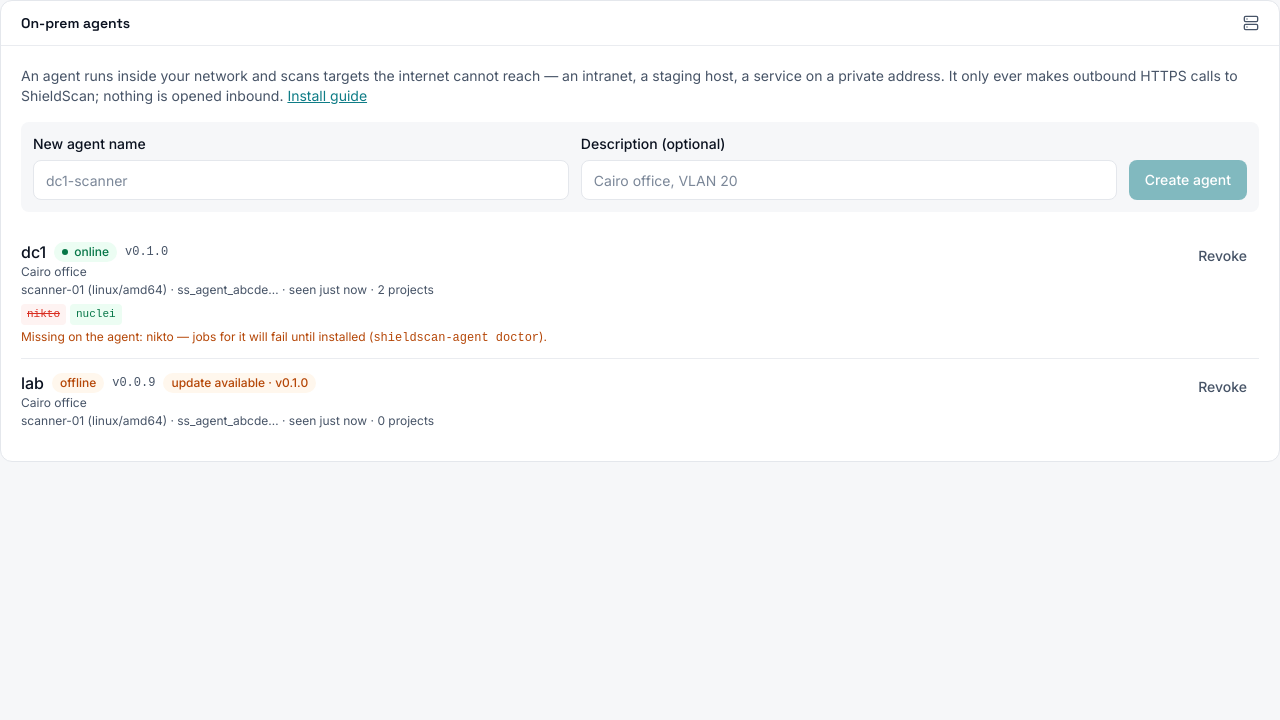
Test case: <Agents /> › plan cap on create renders the plan-limit alert
Expected: the text "dc1" is shown, 21,240 -> 46,264
Step 1. Type "dc2" into the field labelled "New agent name" → (301, 180), box 33,160 -> 569,200
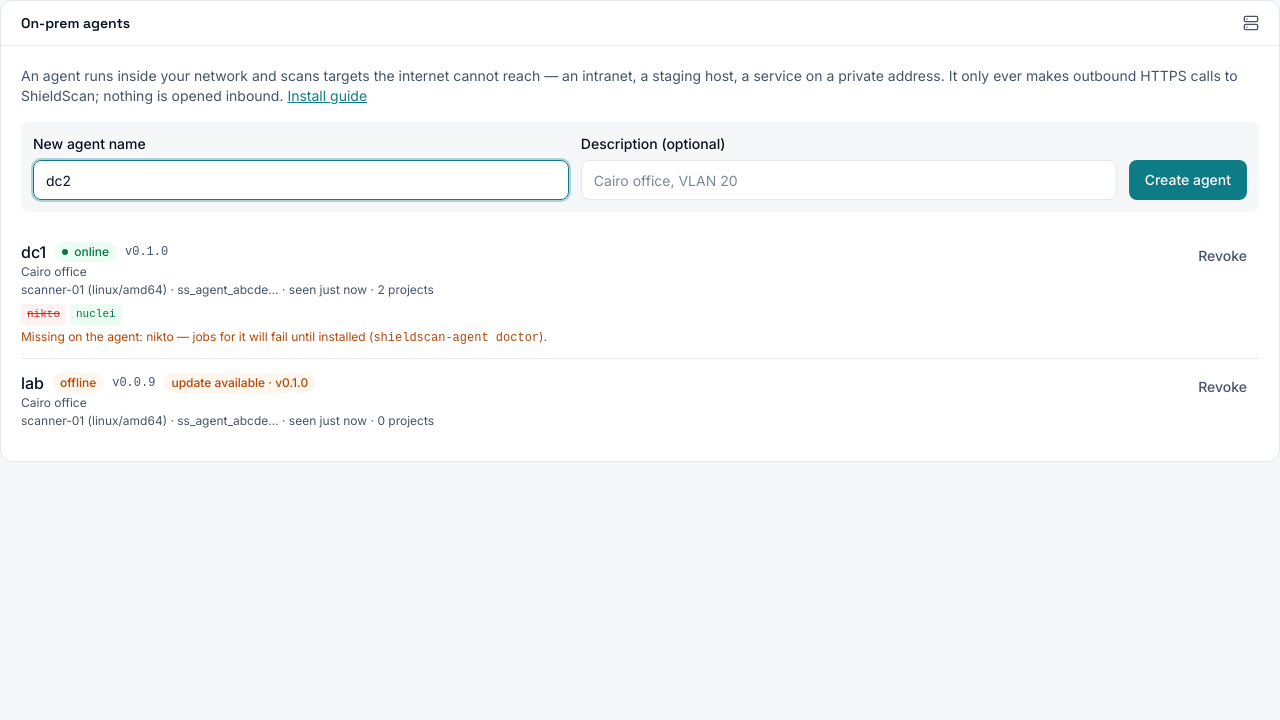
Step 2. Click the button "Create agent" → (1188, 180), box 1129,160 -> 1247,200
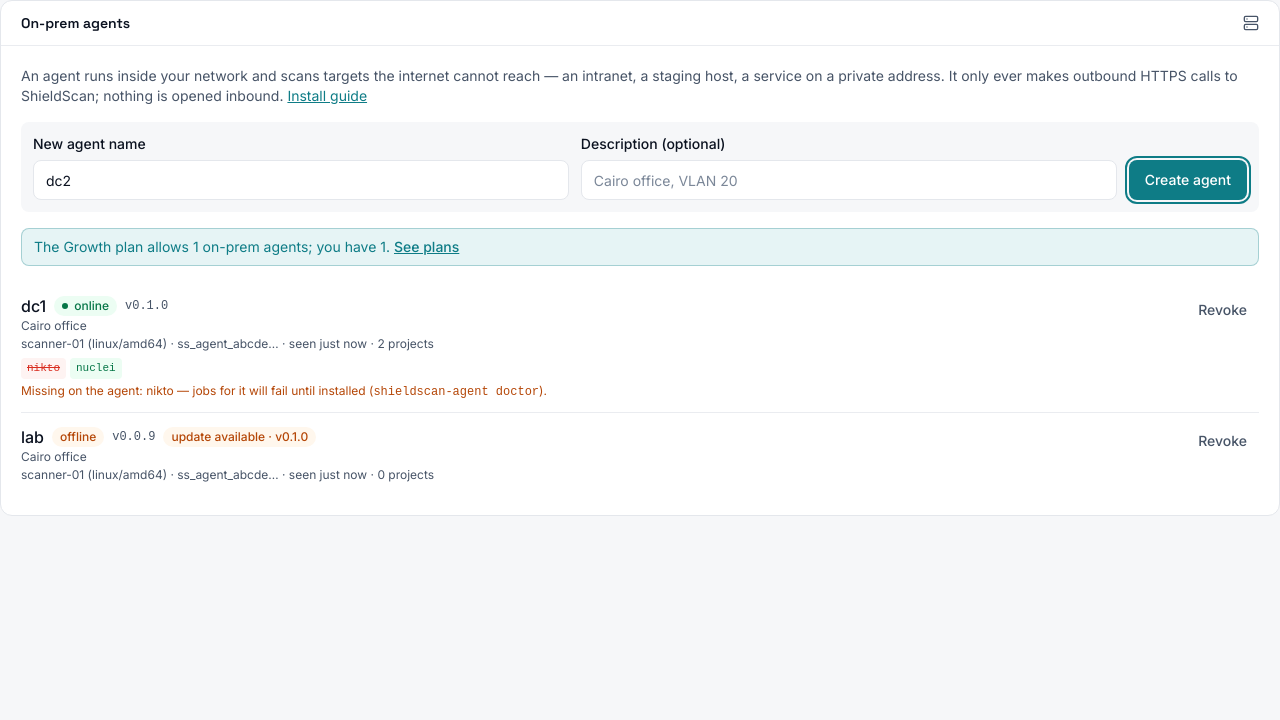
Now the text "The Growth plan allows 1 on-prem agents; you have 1. See plans" is shown, box 21,228 -> 1259,266
